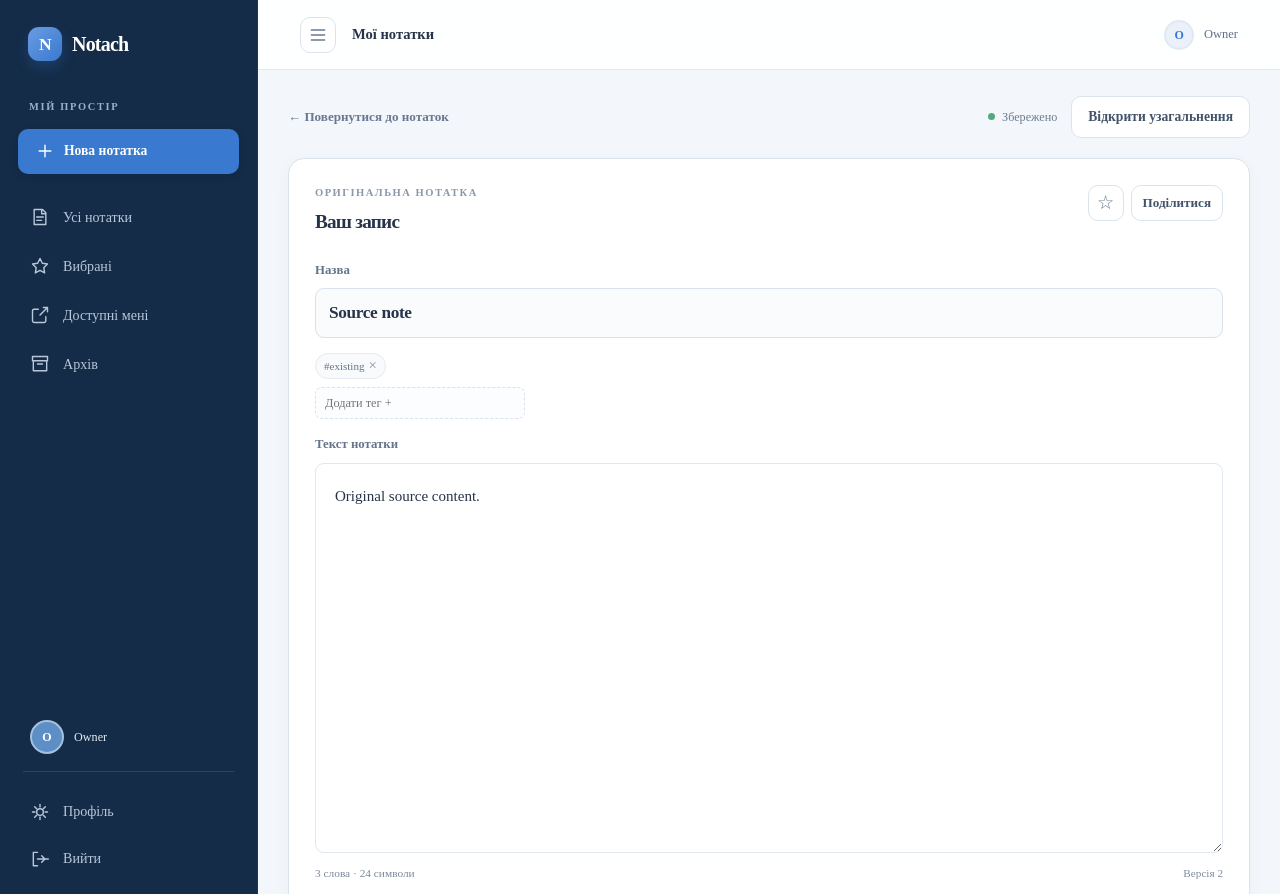
Scenario: note summary workspace › always shows the hourly budget in the summary panel
Check: the field showing "Source note" is shown, box x1=315 y1=288 x2=1223 y2=338
Check: the heading "Асистент узагальнення" is not shown
What coordinates should you click on to do the following:
click the button "Відкрити узагальнення"
I would click on:
 (1161, 117)
Its box is x1=1071 y1=96 x2=1250 y2=138.
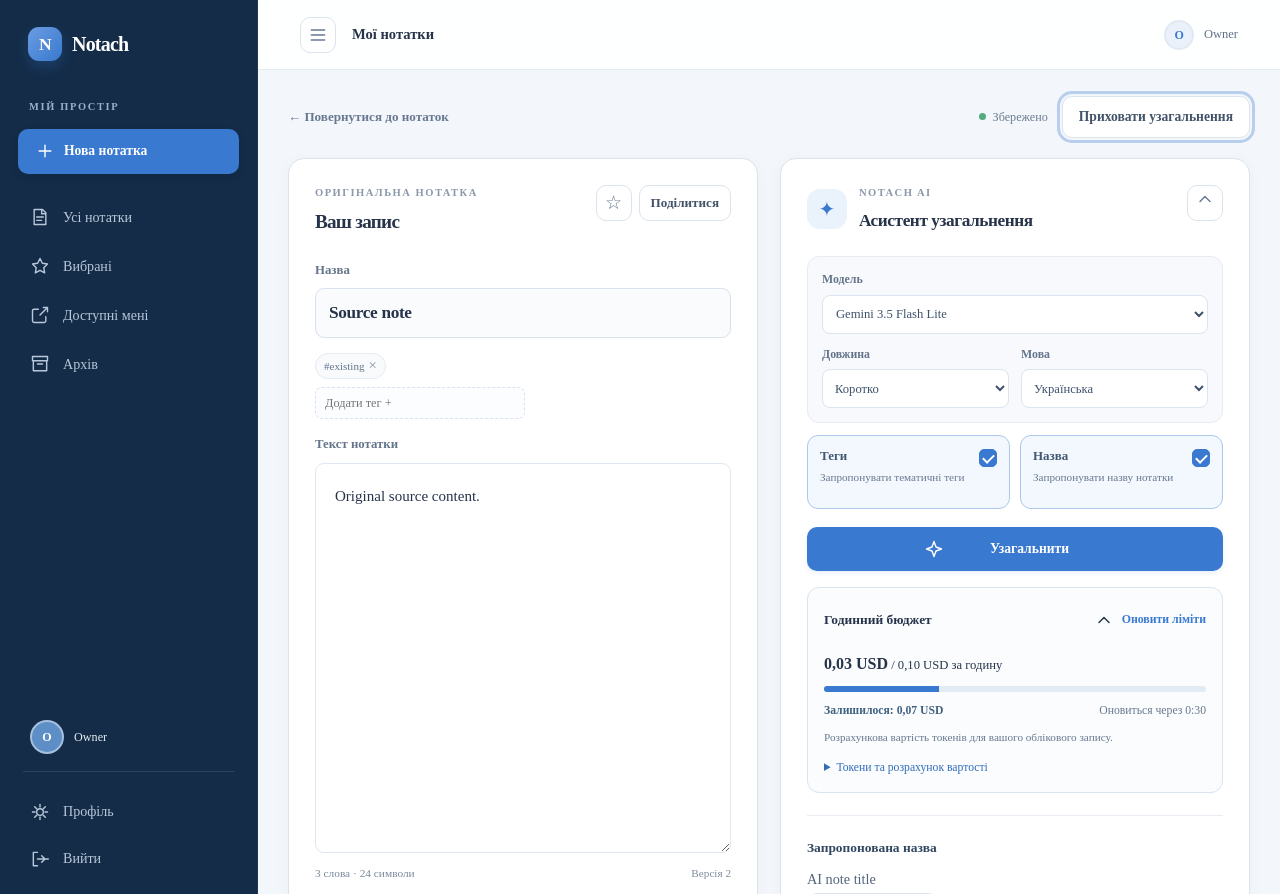
Check: the text "Залишилося: 0,07 USD" is shown, box x1=824 y1=702 x2=943 y2=720
Check: the heading "Годинний бюджет" is shown, box x1=824 y1=604 x2=1114 y2=636
Check: the progress indicator is shown, box x1=824 y1=686 x2=1206 y2=692
